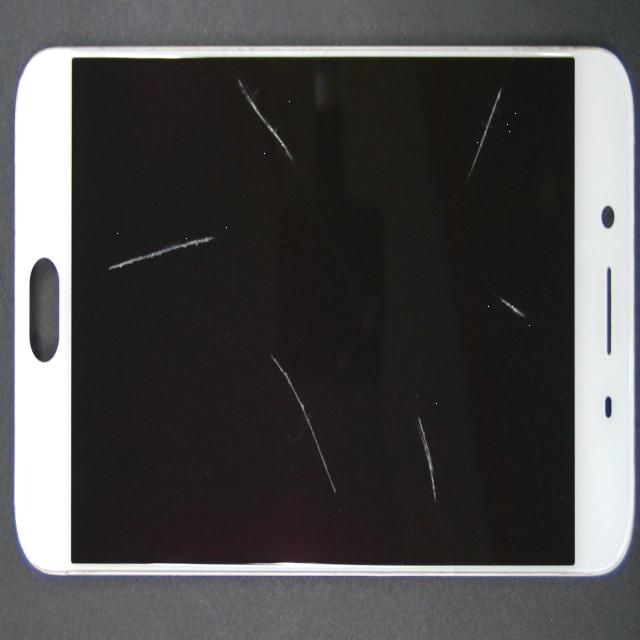scratch: (202, 252, 640, 640), (115, 205, 462, 640), (267, 126, 640, 422), (229, 81, 640, 245), (88, 14, 370, 199), (178, 86, 279, 341)
